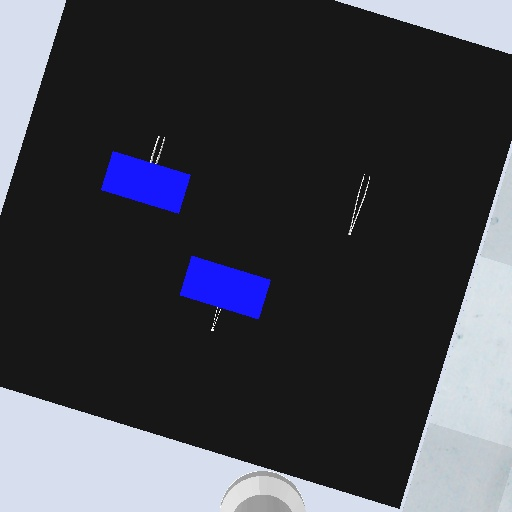pinza: (346, 171, 373, 238), (148, 134, 167, 166), (209, 304, 223, 334)
